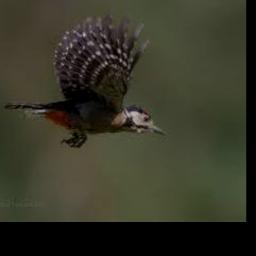Woodpecker: (5, 16, 170, 146)
